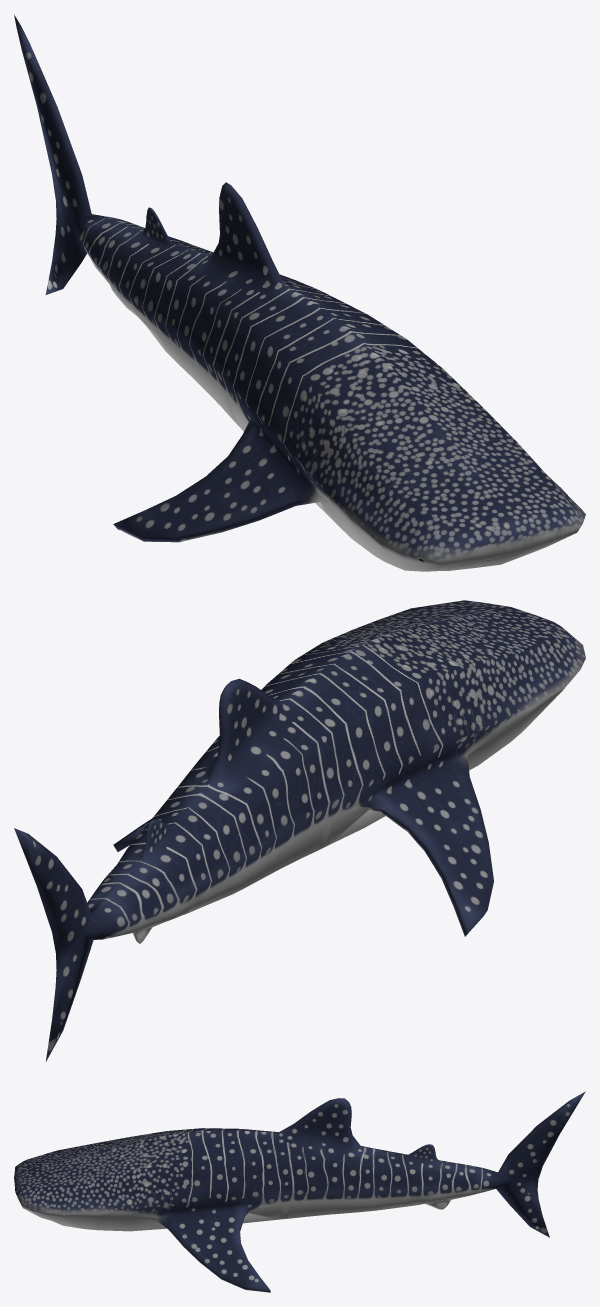
File: p_requin-baleine_v02 - Copy.fbx
The picture shows the model from 3 angles, top to bottom: view 1: azimuth 30°, elevation 25°; view 2: azimuth 150°, elevation 25°; view 3: azimuth 270°, elevation 25°; orthographic projection. The views are drawn at different scales.
Parts seen in each view (by area): view 1: Plane.016; view 2: Plane.016; view 3: Plane.016.
Part boxes in pixels (x1,y1,x2,y2): Plane.016: (14,14,585,571); Plane.016: (14,600,585,1061); Plane.016: (14,1091,585,1292).
Bounding box in the file's own units: 360 × 260 × 880.
